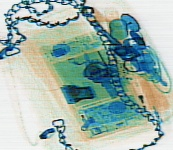lighter: (129, 73, 163, 126)
